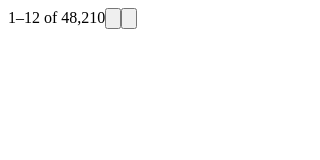
Test: Pager › says the rows shown with the locale's numbers in a polite status, and pages back and forth
Later steps or results of the test are not shown.
Click the button named "kit.pager.next" at (129,18), box top-left (121, 8), bottom-right (137, 29)
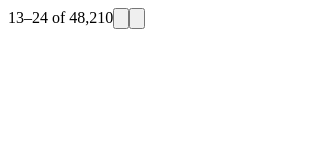
Now the message reads "13–24 of 48,210", box top-left (8, 9), bottom-right (113, 26)
